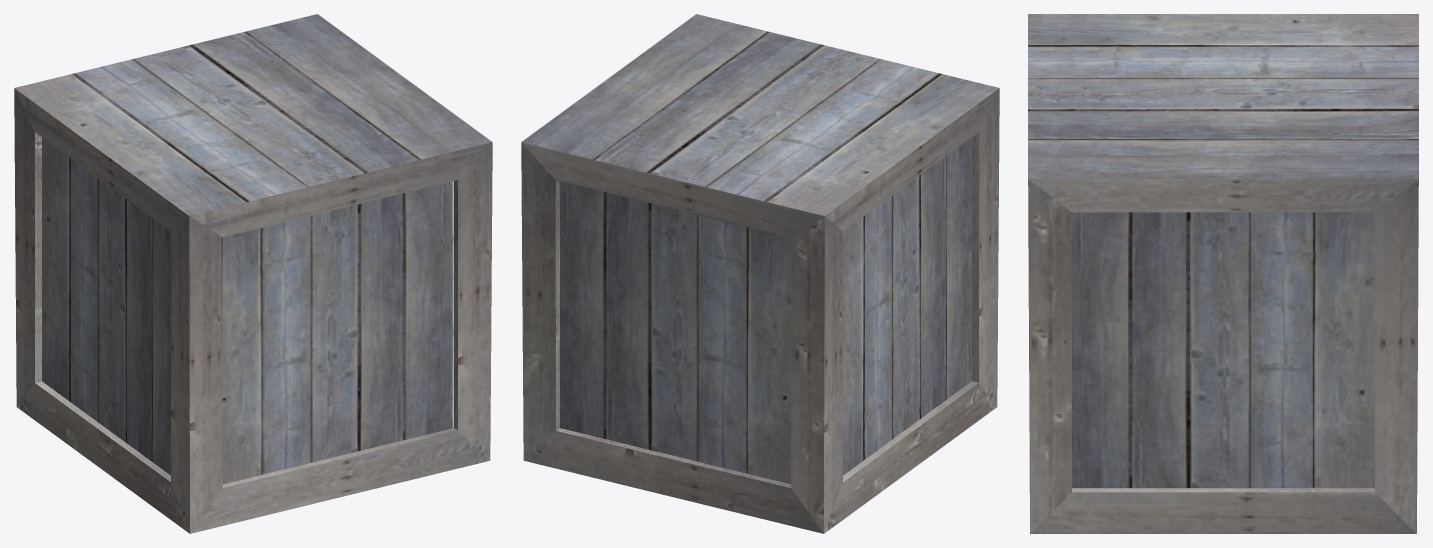
File: woodBox2_rot.obj
3 renders of one model, left to right at view 1: azimuth 30°, elevation 25°; view 2: azimuth 150°, elevation 25°; view 3: azimuth 270°, elevation 25°, orthographic. The views are drawn at different scales.
Visible parts, largest first — view 1: 1; view 2: 1; view 3: 1.
Part boxes in pixels (left/top/right/bottom): 1: left=14, top=14, right=492, bottom=533; 1: left=521, top=14, right=999, bottom=533; 1: left=1028, top=14, right=1418, bottom=533.
Bounding box in the file's own units: 0.984 × 0.9883 × 0.984.
